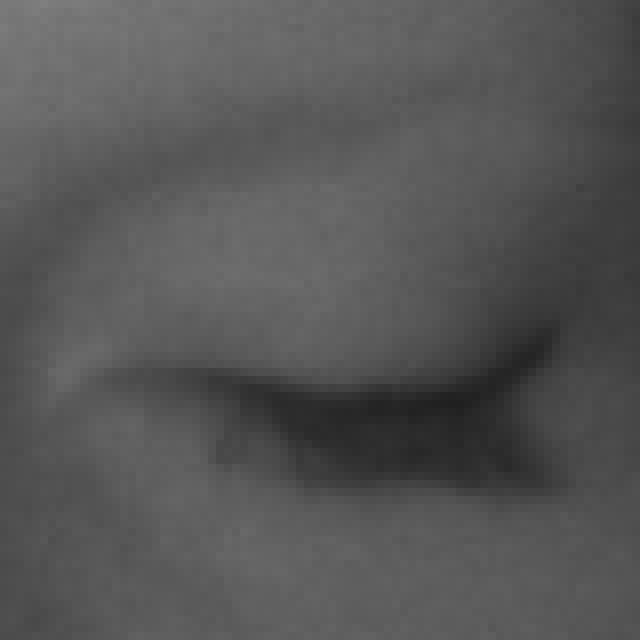Eyeclosed: (90, 188, 551, 632)
